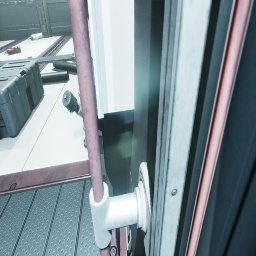0: (28, 33, 43, 40)
FireExtinguisher ]: (4, 46, 21, 55)
SafetySwitchPanel ,: (86, 0, 134, 119)
